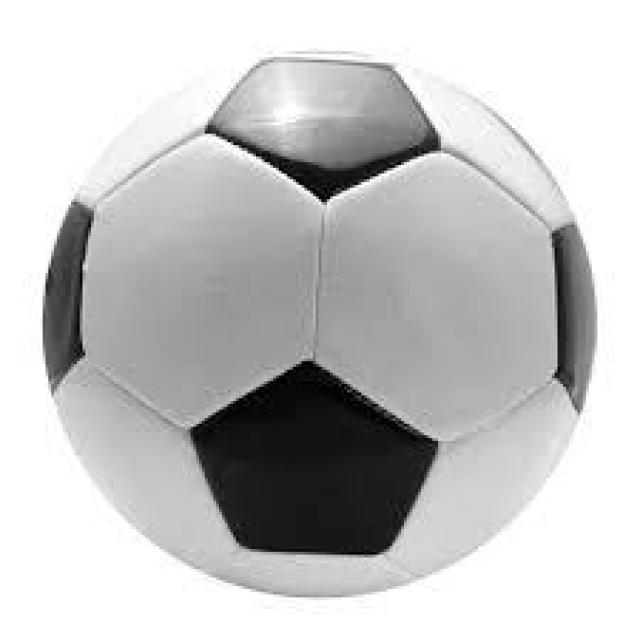Soccer Ball: (37, 43, 606, 597)
